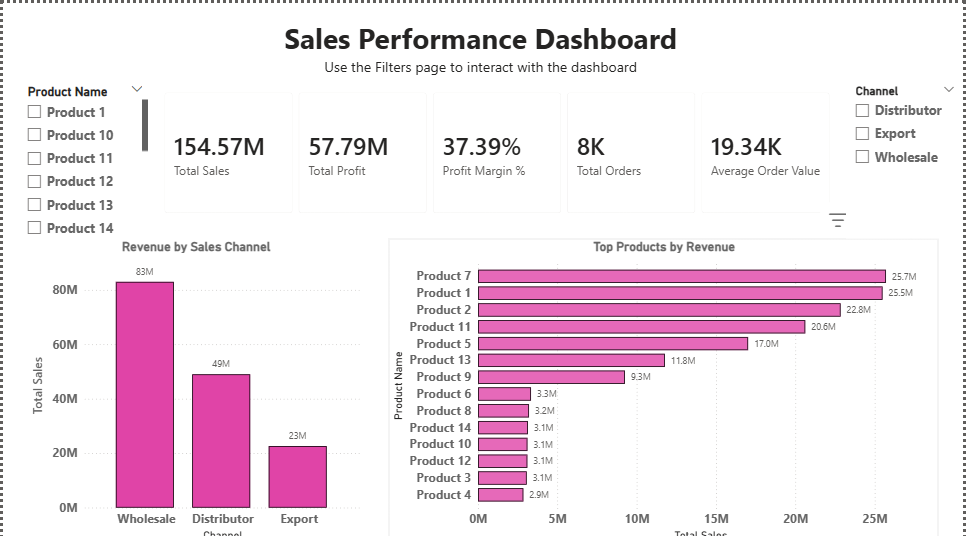

The page's visual inventory and layout, read from the dashboard file:
{"tool":"powerbi","page":{"name":"Sales Performance Dashboard","canvas":[1280,720],"ordinal":0},"visuals":[{"type":"cardVisual","fields":{"Data":["Sales.Total Sales","Sales.Total Profit","Sales.Profit Margin %","Sales.Total Orders","Sales.Average Order Value"]},"box":[198.3,101.7,925,195],"z":0},{"type":"clusteredColumnChart","title":"Revenue by Sales Channel","fields":{"Category":["Sales.Channel"],"Y":["Sales.Total Sales"]},"box":[34.8,313.1,447.2,407.5],"z":1000},{"type":"barChart","title":"Top Products by Revenue","fields":{"Category":["Products.Product Name"],"Y":["Sales.Total Sales"]},"box":[513.5,313.1,735.5,407.5],"z":2000},{"type":"textbox","box":[35,16.7,1201.7,70],"z":3000},{"type":"slicer","fields":{"Values":["Sales.Channel"]},"box":[1123.3,101.7,156.7,211.7],"z":3001},{"type":"slicer","fields":{"Values":["Products.Product Name"]},"box":[20,101.7,178.3,211.7],"z":3002},{"type":"textbox","box":[35,66.7,1201.7,35],"z":3003}]}

Visuals, with their boxes in screenshot pixels (x1, y1, x2, y2), scaled from the page's 1280x720 canvas onto the 970x536 screenshot:
cardVisual - Sales.Total Sales x Sales.Total Profit: <bbox>150, 76, 851, 221</bbox>
"Revenue by Sales Channel" clusteredColumnChart: <bbox>26, 233, 365, 535</bbox>
"Top Products by Revenue" barChart: <bbox>389, 233, 947, 535</bbox>
textbox: <bbox>27, 12, 937, 65</bbox>
slicer - Sales.Channel: <bbox>851, 76, 969, 233</bbox>
slicer - Products.Product Name: <bbox>15, 76, 150, 233</bbox>
textbox: <bbox>27, 50, 937, 76</bbox>
